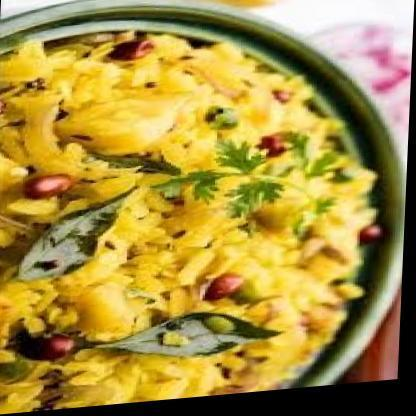poha: (0, 15, 390, 416)
